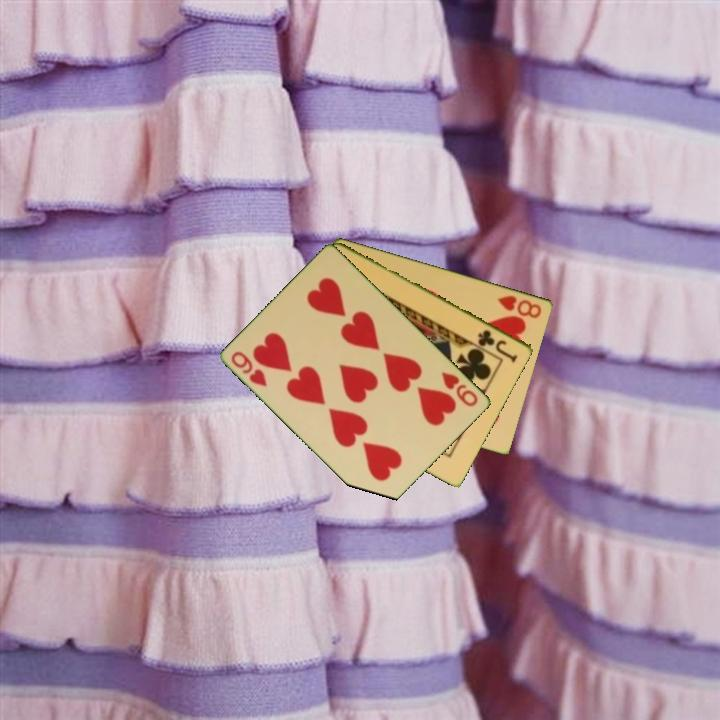8h: (494, 291, 545, 321)
9h: (228, 347, 270, 390), (438, 368, 481, 409)
Jc: (474, 326, 521, 365)
